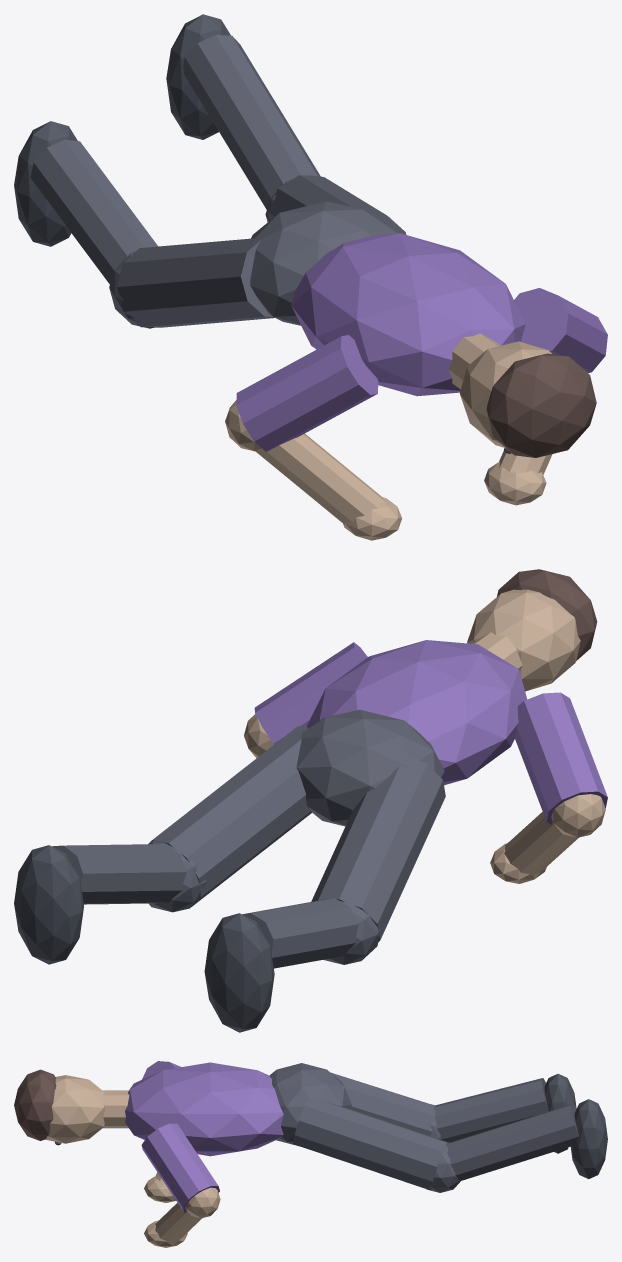
3 views of the same model, one above another, from view 1: azimuth 30°, elevation 25°; view 2: azimuth 150°, elevation 25°; view 3: azimuth 270°, elevation 25° (orthographic). The views are drawn at different scales.
Parts seen in each view (by area): view 1: world; view 2: world; view 3: world.
Boxes of the visible parts, x1,y1,x2,y2 form: world: (14, 14, 607, 540); world: (14, 569, 607, 1032); world: (14, 1061, 607, 1247).
Bounding box in the file's own units: 0.93 × 0.57 × 2.01.
